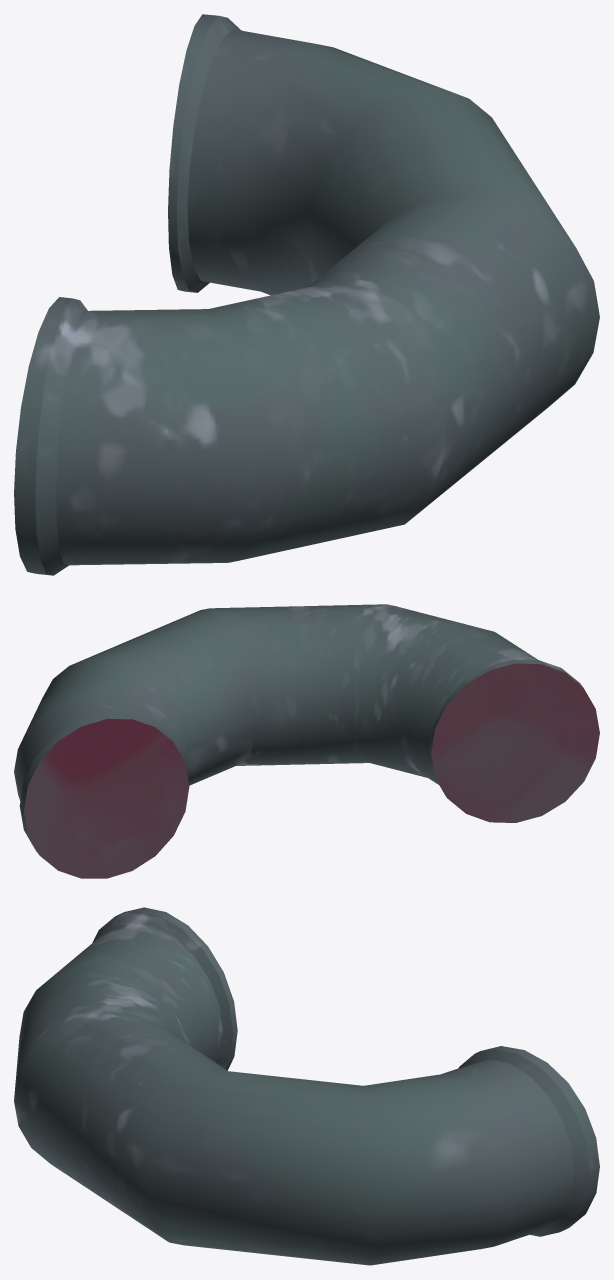
File: Half_Curved_Pipe.fbx
3 views of the same model, one above another, from view 1: azimuth 30°, elevation 25°; view 2: azimuth 150°, elevation 25°; view 3: azimuth 270°, elevation 25° (orthographic). The views are drawn at different scales.
Parts seen in each view (by area): view 1: HALF_CURVEDPIPE_001; view 2: HALF_CURVEDPIPE_001; view 3: HALF_CURVEDPIPE_001.
Boxes of the visible parts, x1,y1,x2,y2 form: HALF_CURVEDPIPE_001: (14,14,599,575); HALF_CURVEDPIPE_001: (14,604,599,878); HALF_CURVEDPIPE_001: (14,907,599,1265).
Bounding box in the file's own units: 118 × 41.19 × 122.
